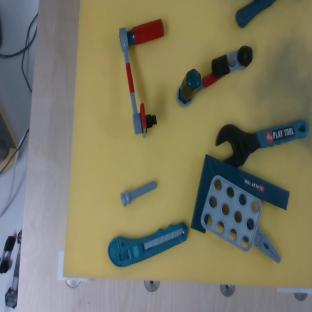non_pass: (168, 36, 258, 108)
pass: (119, 19, 168, 138)
